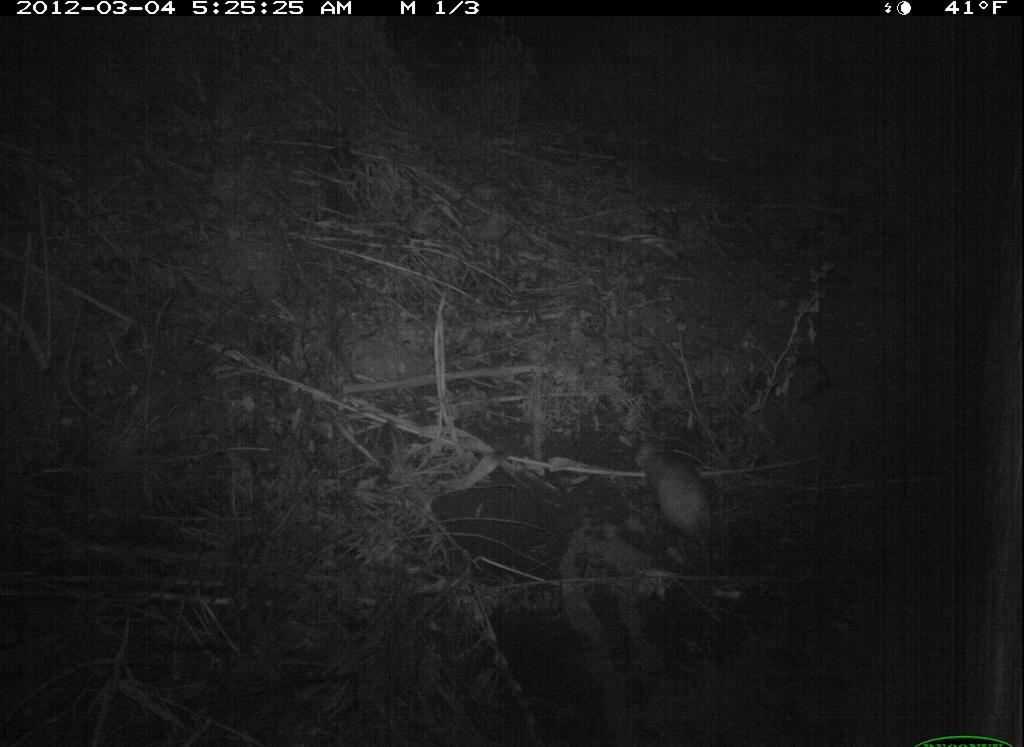opossum: (624, 436, 735, 582)
